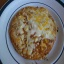pizza: (6, 7, 56, 56)
